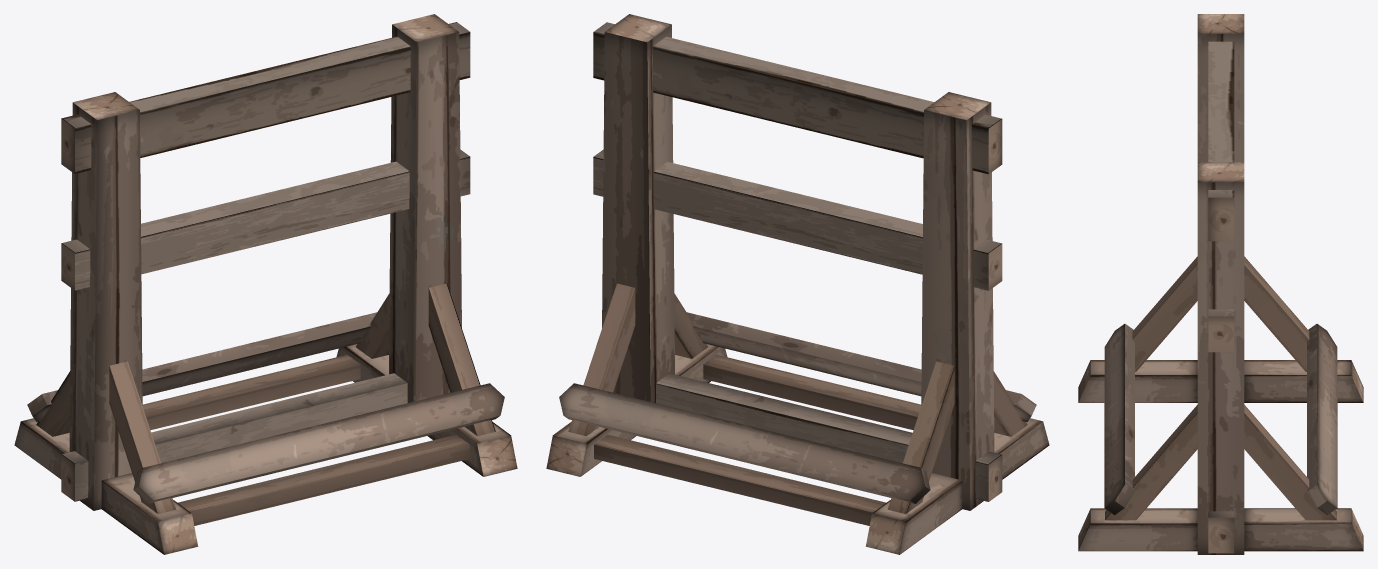
The model's file is WeaponsRack0.fbx.
3 views of the same model, side by side, from view 1: azimuth 30°, elevation 25°; view 2: azimuth 150°, elevation 25°; view 3: azimuth 270°, elevation 25° (orthographic). The views are drawn at different scales.
Parts seen in each view (by area): view 1: Cube.003; view 2: Cube.003; view 3: Cube.003.
Boxes of the visible parts, x1,y1,x2,y2 form: Cube.003: (14,14,517,554); Cube.003: (546,14,1049,554); Cube.003: (1078,14,1363,554).
Size of the model in its own units: 372 by 350 by 244.
